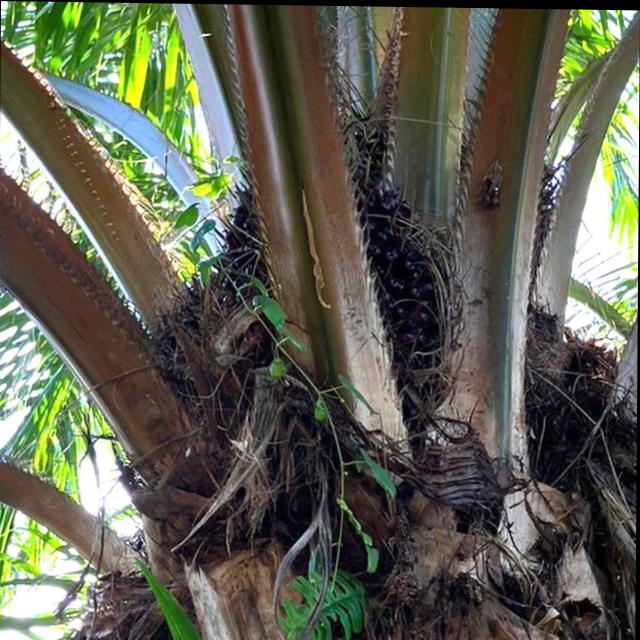almost: (210, 143, 487, 419)
